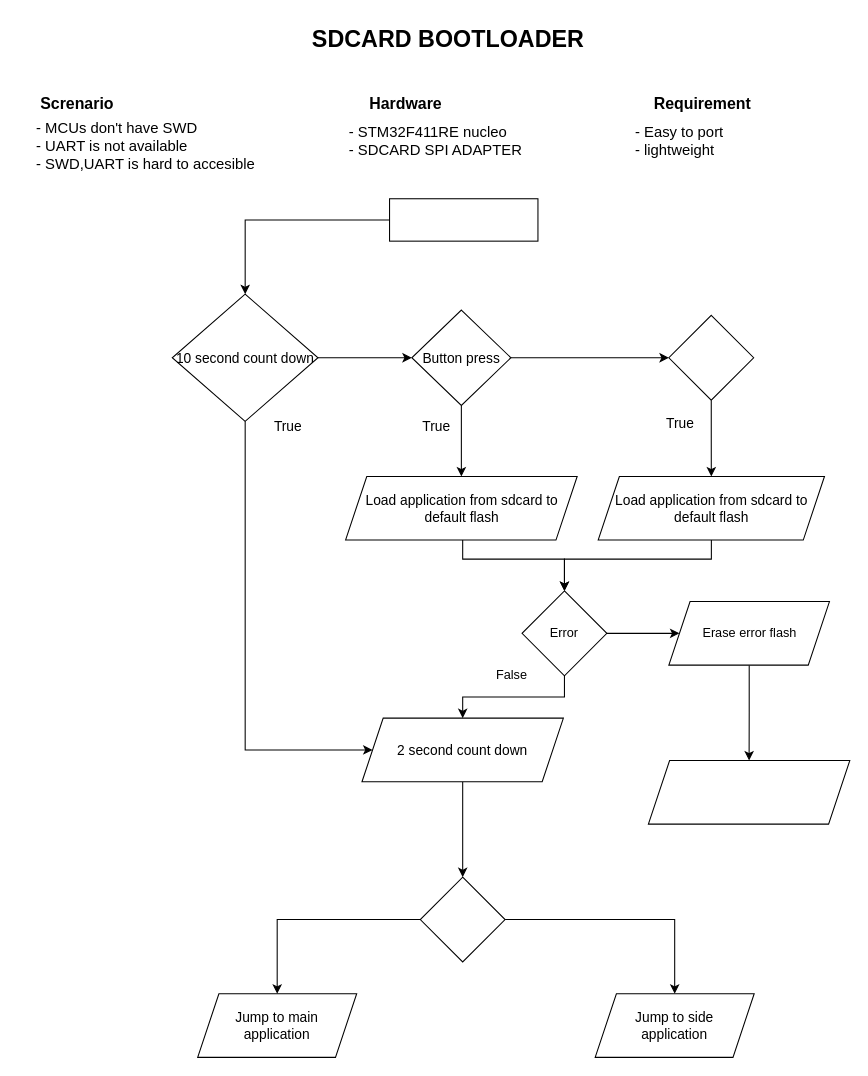
The diagram is 868 pixels wide and 1076 high, and some of its shapes have lost their labels. Here are the shapes that lost their labels. From the top down, the box of each, then its label:
(388, 198, 538, 241): BOOT INITIALIZE
(668, 314, 754, 400): Button hold
(647, 759, 850, 824): Jump to leftover application and erase unfinshed upload
(419, 876, 505, 962): Button state
